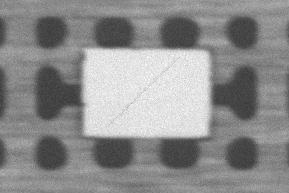DIE_CRACK: (160, 38, 268, 84)
